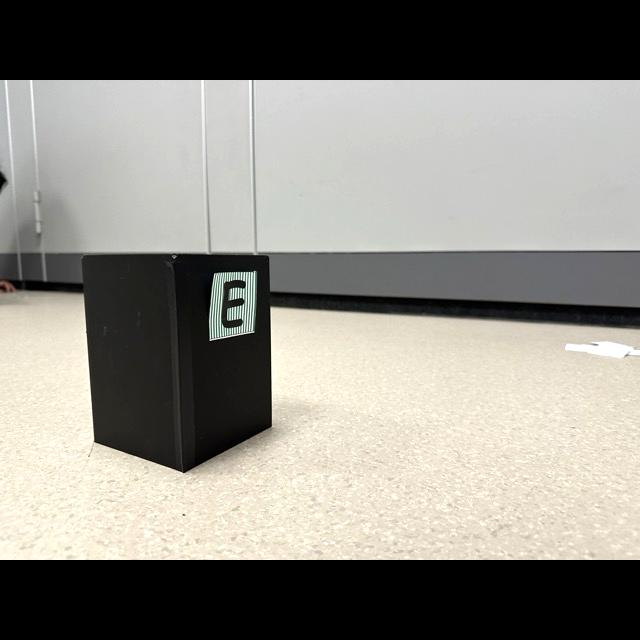E: (221, 280, 246, 328)
